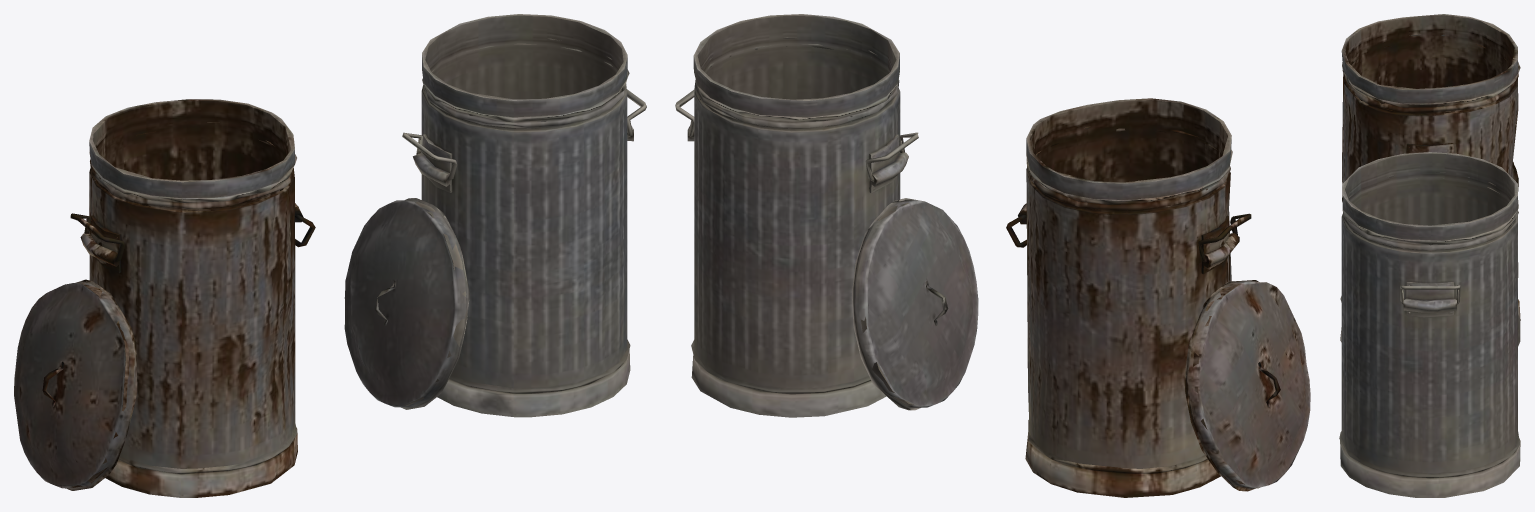
The model's file is metal_trash_can.glb.
The picture shows the model from 3 angles, left to right: view 1: azimuth 30°, elevation 25°; view 2: azimuth 150°, elevation 25°; view 3: azimuth 270°, elevation 25°; orthographic projection. The views are drawn at different scales.
Visible parts, largest first — view 1: metal_trash_can, metal_trash_can_rust, metal_trash_can_lid, metal_trash_can_rust_lid; view 2: metal_trash_can, metal_trash_can_rust, metal_trash_can_lid, metal_trash_can_rust_lid; view 3: metal_trash_can, metal_trash_can_rust, metal_trash_can_handle_right.
Part boxes in pixels (x1,y1,x2,y2): metal_trash_can: (413,14,633,417); metal_trash_can_rust: (80,99,303,497); metal_trash_can_lid: (344,198,469,409); metal_trash_can_rust_lid: (14,279,137,490); metal_trash_can: (687,14,908,417); metal_trash_can_rust: (1018,98,1239,497); metal_trash_can_lid: (852,198,978,410); metal_trash_can_rust_lid: (1184,280,1310,491); metal_trash_can: (1339,152,1520,497); metal_trash_can_rust: (1340,14,1520,320); metal_trash_can_handle_right: (1400,285,1460,304).
Bounding box in the file's own units: 1.78 × 0.9062 × 0.5502.
Materials: 2 (2 with a texture image).
